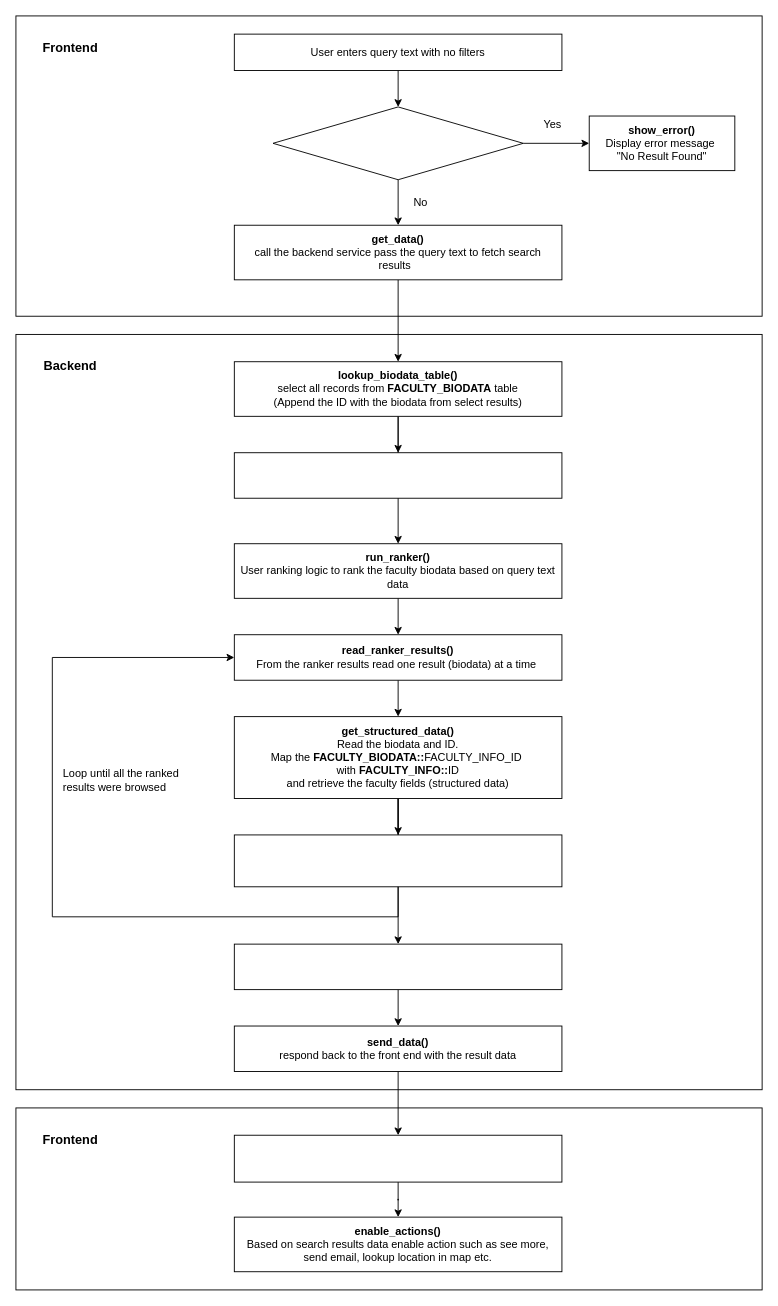
Image size: 778x1306. Some labels were removed from this diagram. The centre of each missing label's shape, as x and y in pixels:
"append_structured_data() append the result row in a list of dictionaries" goes at (x=397, y=860).
"display_search_results() display the search results with all formatting" goes at (x=397, y=1158).
"do_cleanup() do any cleanup including deleting any temp files" goes at (x=397, y=966).
"validate_query_text() Checks if text is too long or no alpha" goes at (x=397, y=143).
"write_to_file() write the biodata (with appended ID) in a temp text file" goes at (x=397, y=475).
